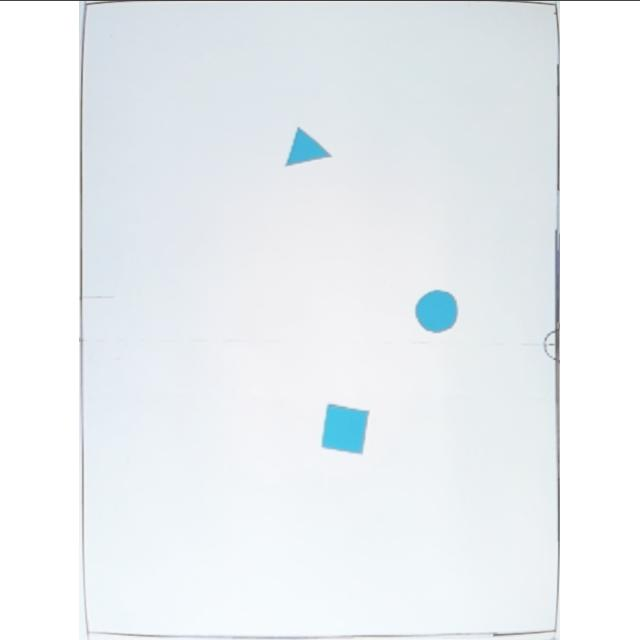blueCircle: (416, 288, 462, 334)
blueSquare: (322, 401, 374, 453)
blueTriangle: (284, 125, 336, 168)
